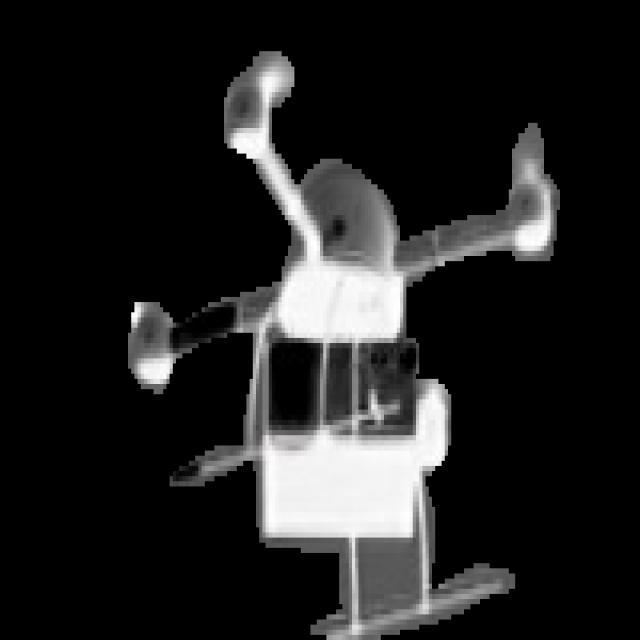drone: (124, 51, 566, 640)
